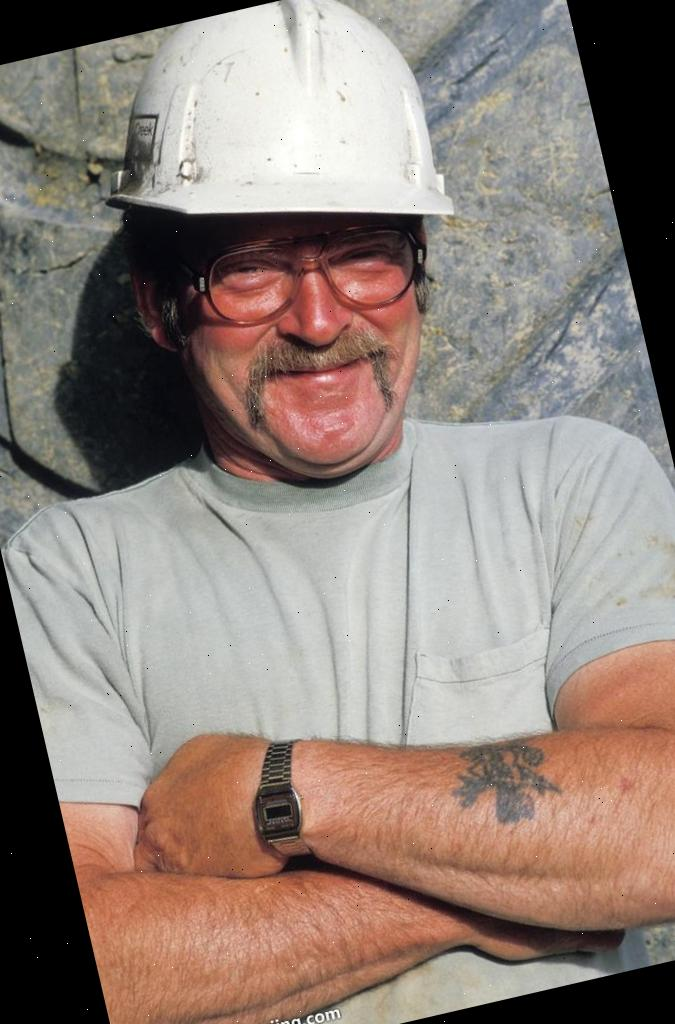helmet: (62, 0, 462, 290)
no_wear: (12, 365, 675, 1024)
